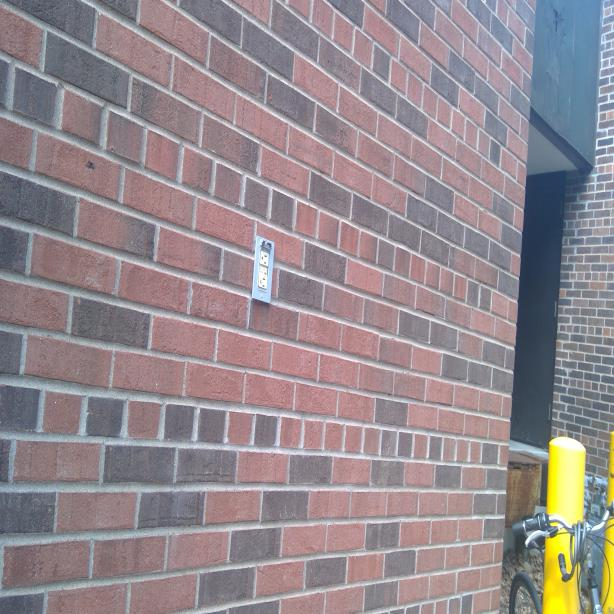typeb: (258, 252, 269, 266), (258, 274, 267, 288)
